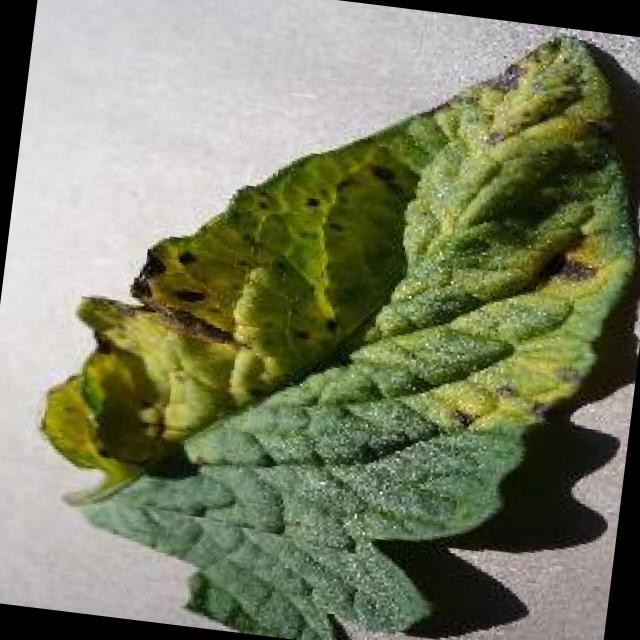Tomato_Early_Blight: (22, 0, 627, 615)
